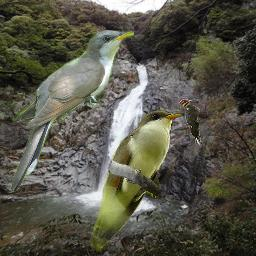Cuckoo: (10, 30, 134, 191), (88, 109, 185, 252)
Woodpecker: (179, 99, 202, 146)
